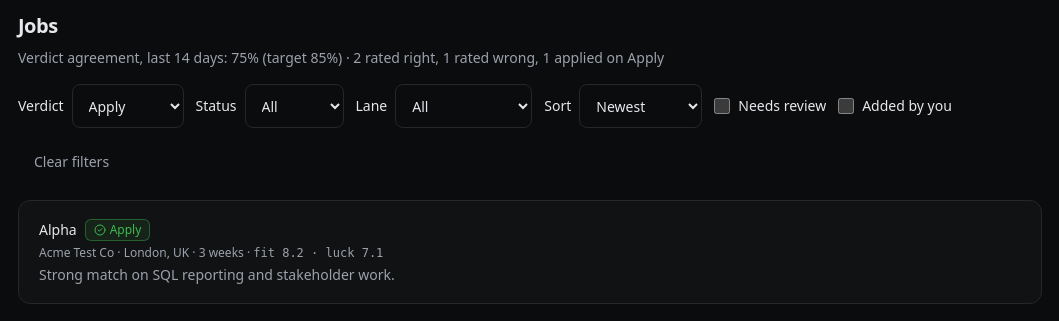
Test: JobsPage › shows only jobs waiting for review when asked, and clears the other filters
Expected: the text "Alpha" is shown, left=39, top=220, right=77, bottom=240
Click the checkbox labelled "Needs review". click: point(722, 106)
box: left=714, top=98, right=730, bottom=114
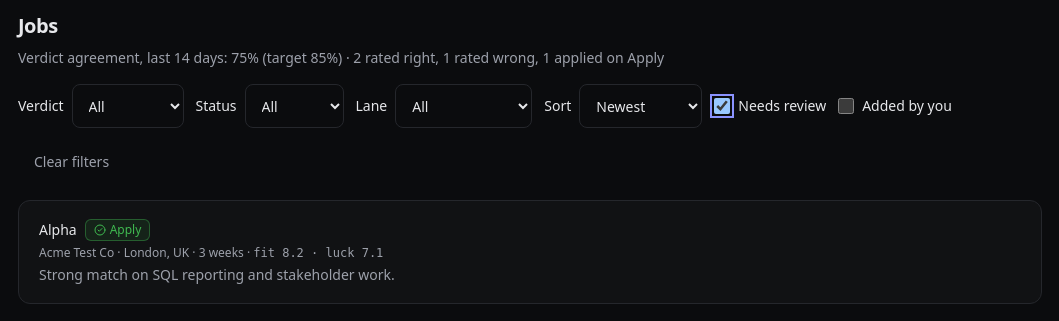
Expected: the dropdown labelled "Verdict" is disabled, left=72, top=84, right=184, bottom=128
